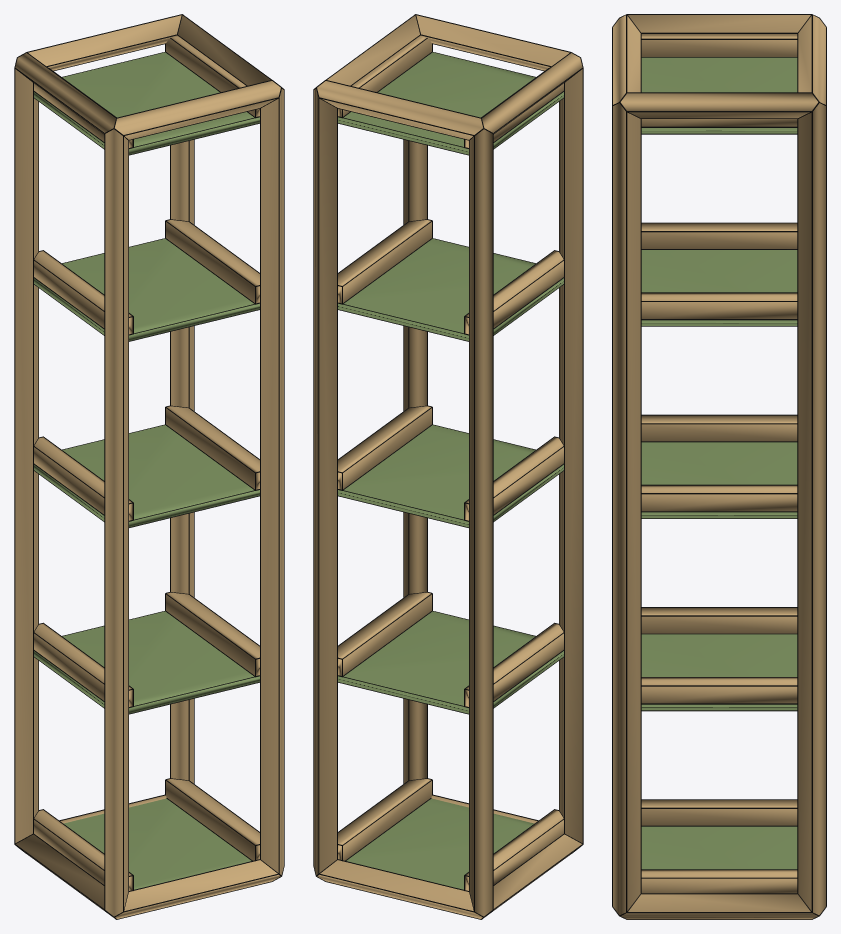
Rendered from 016-bibliotheque.glb.
3 views of the same model, side by side, from view 1: azimuth 30°, elevation 25°; view 2: azimuth 150°, elevation 25°; view 3: azimuth 270°, elevation 25° (orthographic). The views are drawn at different scales.
Visible parts, largest first — view 1: arete-Z0, arete-Z1, arete-Z2, tablette-plate-mod-2, tablette-plate-mod-1, tablette-plate-mod-3, tablette-plate-mod-4, tablette-plate-mod-0, arete-Z3, arete-X2, arete-X0, arete-X3 (+21 smaller); view 2: arete-Z2, arete-Z3, arete-Z0, tablette-plate-mod-2, tablette-plate-mod-1, tablette-plate-mod-3, tablette-plate-mod-4, tablette-plate-mod-0, arete-Z1, arete-X3, arete-X1, arete-X2 (+21 smaller); view 3: arete-Z1, arete-Z3, tablette-plate-mod-2, tablette-plate-mod-1, tablette-plate-mod-3, tablette-plate-mod-0, tablette-plate-mod-4, arete-Y3, arete-Y1, tablette-traverse-left-mod-2, tablette-traverse-right-mod-1, tablette-traverse-left-mod-1 (+24 smaller).
Boxes of the visible parts, left/top/right/bottom form: arete-Z0: left=105, top=129, right=128, bottom=916; arete-Z1: left=261, top=89, right=283, bottom=874; arete-Z2: left=15, top=69, right=38, bottom=842; tablette-plate-mod-2: left=34, top=425, right=259, bottom=527; tablette-plate-mod-1: left=34, top=611, right=259, bottom=713; tablette-plate-mod-3: left=34, top=238, right=259, bottom=340; tablette-plate-mod-4: left=34, top=52, right=259, bottom=154; tablette-plate-mod-0: left=63, top=798, right=251, bottom=889; arete-Z3: left=171, top=140, right=193, bottom=783; arete-X2: left=115, top=81, right=280, bottom=139; arete-X0: left=115, top=860, right=280, bottom=918; arete-X3: left=28, top=15, right=181, bottom=70; arete-Z2: left=469, top=129, right=492, bottom=916; arete-Z3: left=314, top=89, right=336, bottom=874; arete-Z0: left=559, top=69, right=582, bottom=842; tablette-plate-mod-2: left=338, top=425, right=563, bottom=527; tablette-plate-mod-1: left=338, top=611, right=563, bottom=713; tablette-plate-mod-3: left=338, top=238, right=563, bottom=340; tablette-plate-mod-4: left=338, top=52, right=563, bottom=154; tablette-plate-mod-0: left=346, top=798, right=534, bottom=889; arete-Z1: left=404, top=140, right=426, bottom=783; arete-X3: left=317, top=81, right=482, bottom=139; arete-X1: left=317, top=860, right=482, bottom=918; arete-X2: left=416, top=15, right=569, bottom=70; arete-Z1: left=613, top=103, right=640, bottom=914; arete-Z3: left=798, top=103, right=825, bottom=914; tablette-plate-mod-2: left=641, top=442, right=797, bottom=518; tablette-plate-mod-1: left=641, top=634, right=797, bottom=710; tablette-plate-mod-3: left=641, top=250, right=797, bottom=325; tablette-plate-mod-0: left=641, top=826, right=797, bottom=869; tablette-plate-mod-4: left=641, top=57, right=797, bottom=133; arete-Y3: left=620, top=93, right=818, bottom=118; arete-Y1: left=621, top=894, right=817, bottom=919; tablette-traverse-left-mod-2: left=641, top=415, right=797, bottom=441; tablette-traverse-right-mod-1: left=641, top=677, right=797, bottom=703; tablette-traverse-left-mod-1: left=641, top=608, right=797, bottom=633.
Size of the model in its own units: 0.4309 by 1.83 by 0.4309.
